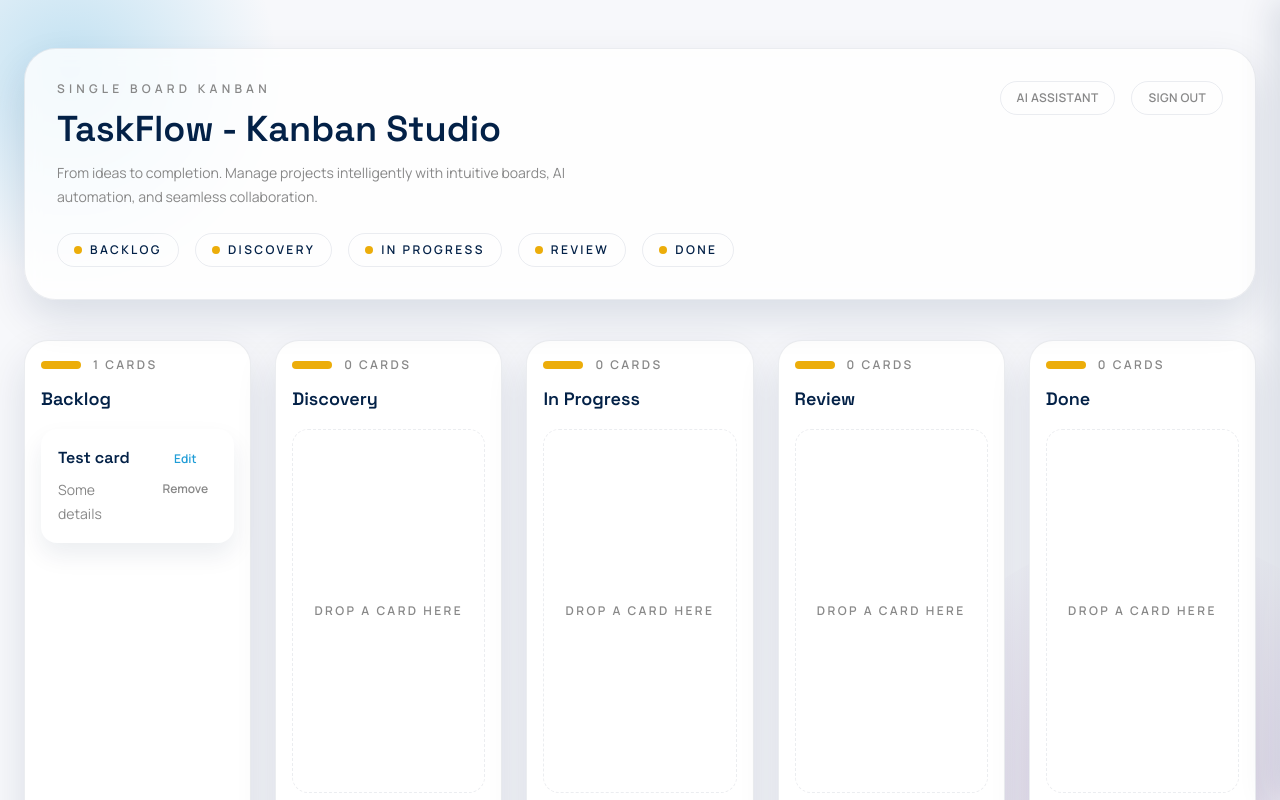
Test: KanbanBoard › removes a card optimistically when delete is clicked
Expected: the heading "Test card" is shown, x1=58 y1=446 x2=141 y2=470
Click the button with aria-label "delete test card".
click(185, 489)  # box x1=153 y1=476 x2=217 y2=502
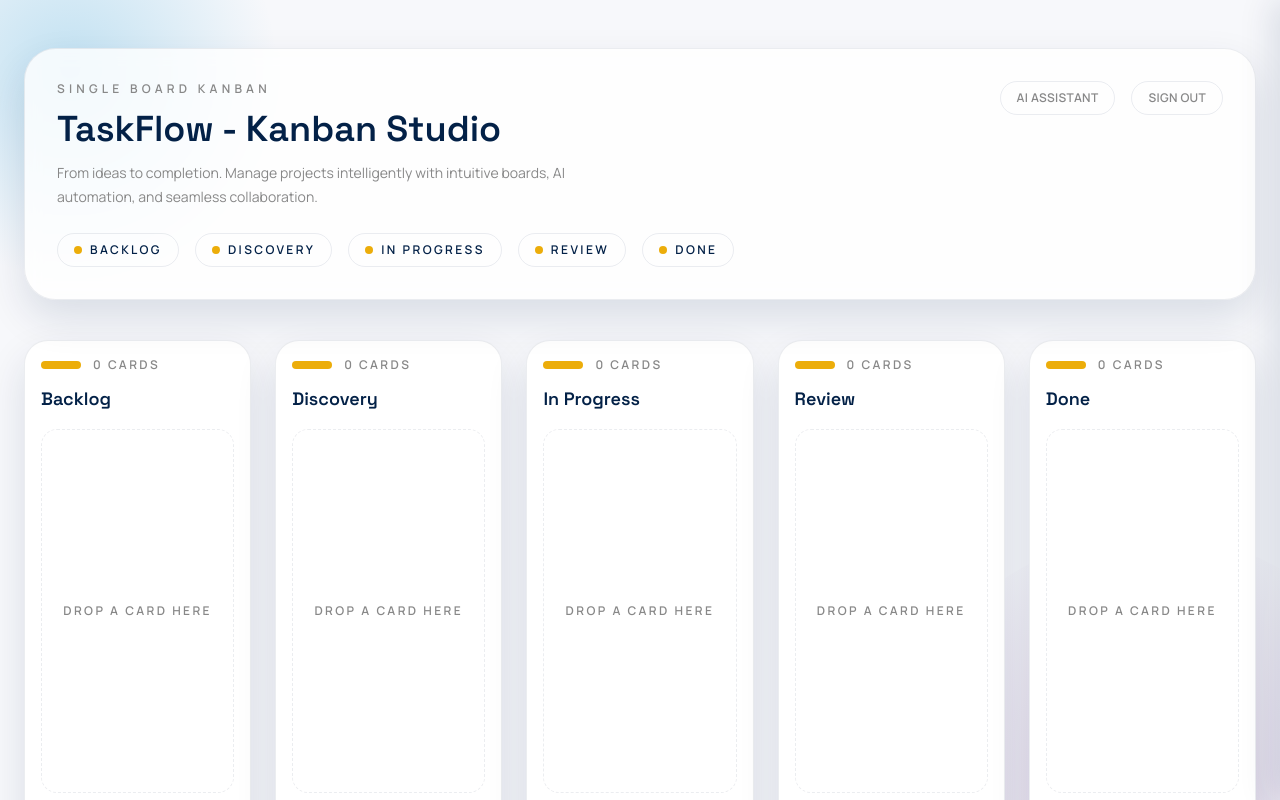
Expected: the button "Test card" is gone
